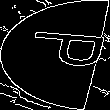P_E: (6, 33, 104, 77)
